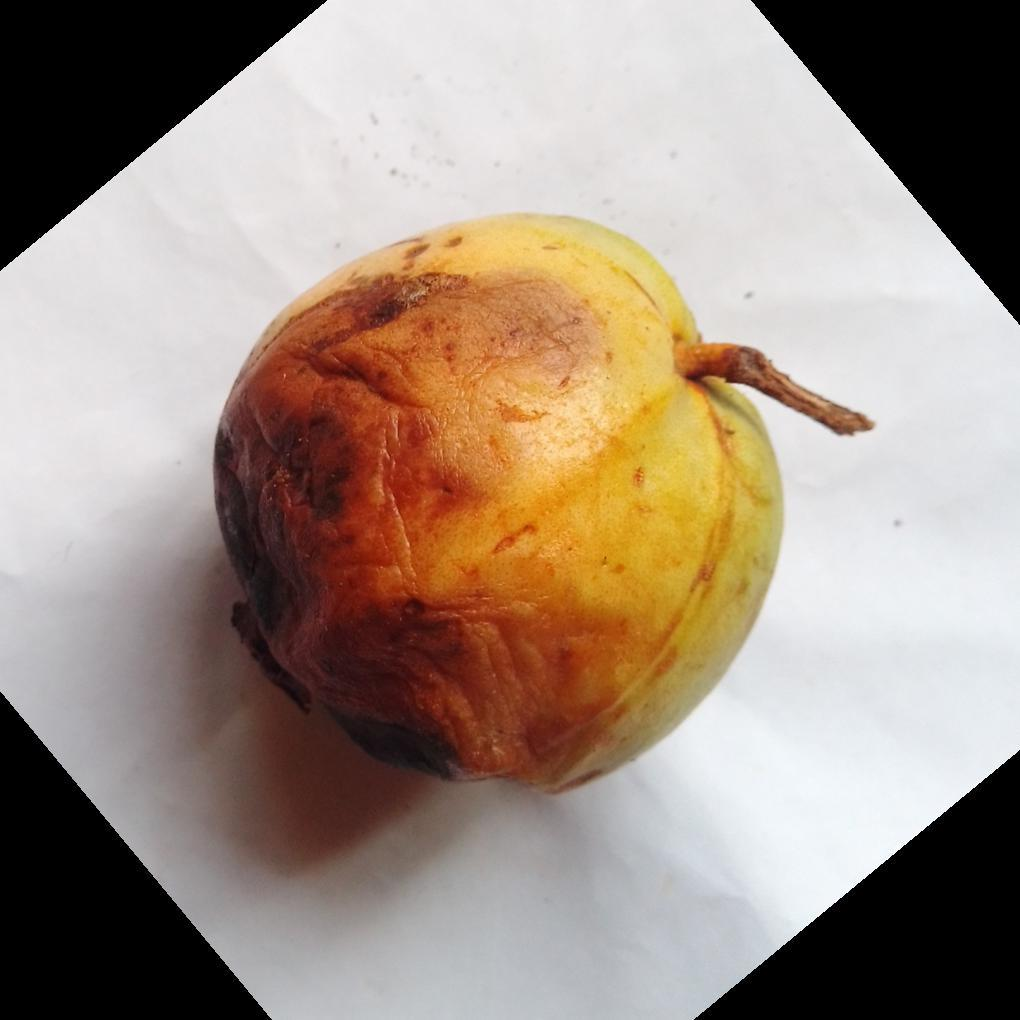FreshOrange: (209, 212, 867, 799)
